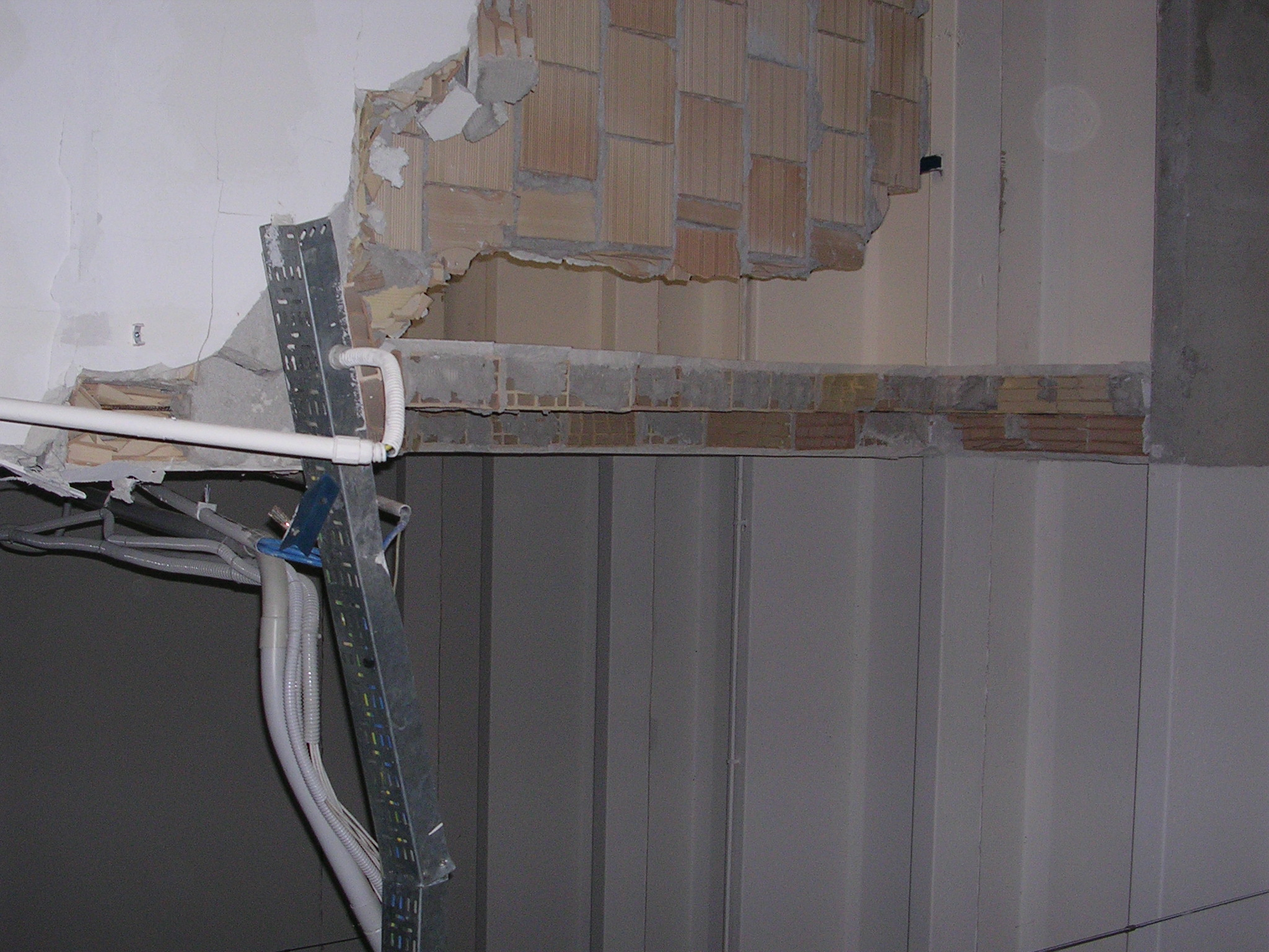Other damage/mechanism: (350, 2, 1151, 467)
